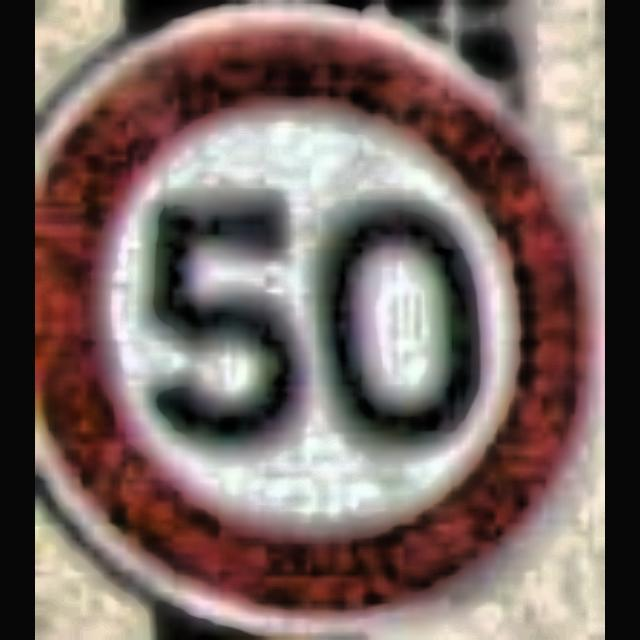speed_50: (36, 0, 600, 634)
